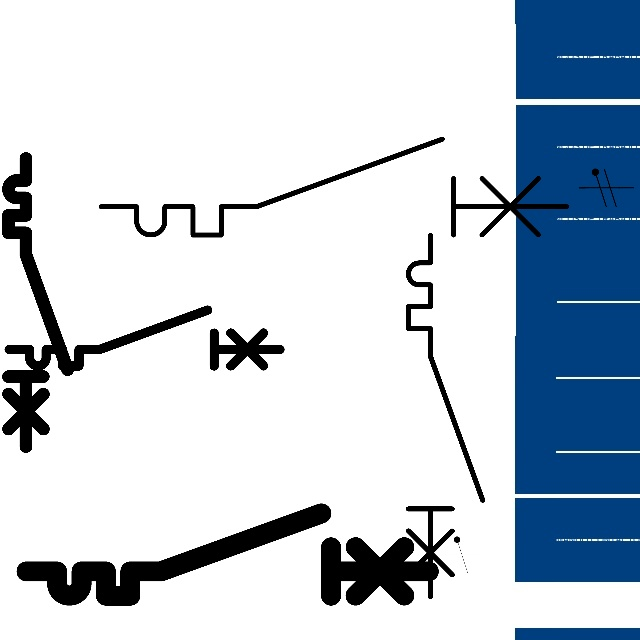interruptor_termomagnetico: (89, 127, 578, 247), (16, 503, 439, 606), (399, 226, 492, 606), (1, 151, 75, 454), (2, 303, 287, 373)
